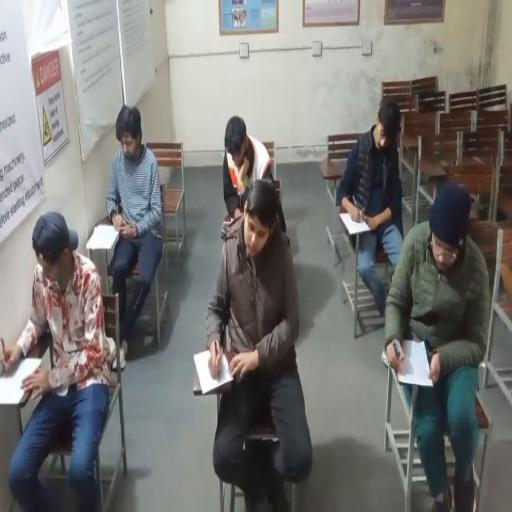paper: (0, 355, 43, 405), (392, 339, 434, 387), (193, 348, 233, 394), (86, 222, 120, 250), (338, 211, 372, 236)
